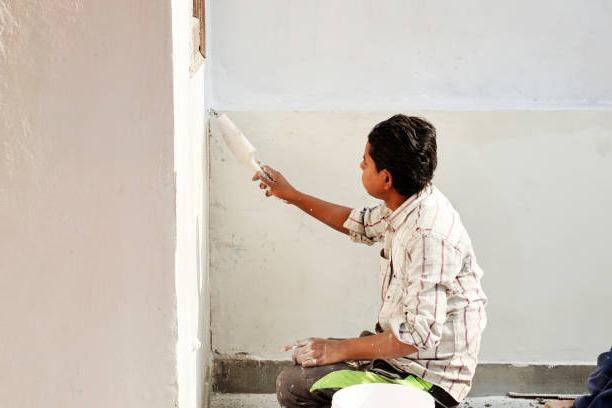Human: (247, 94, 488, 408)
